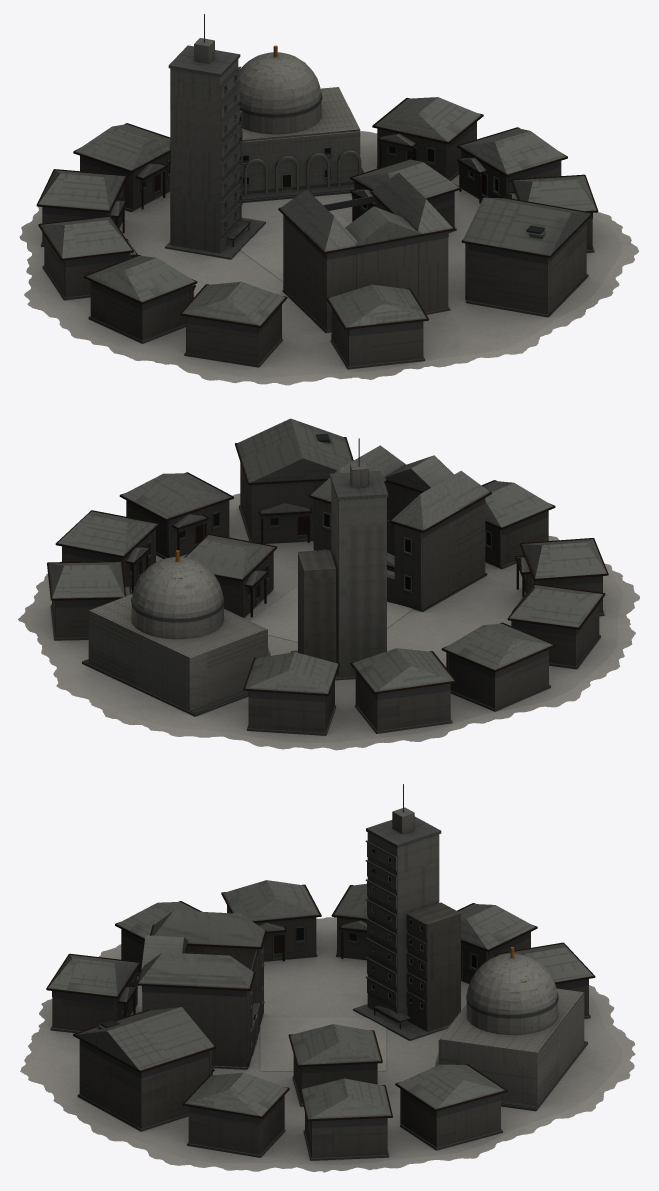
Rendered from modern-town-medium-b-westafrica.glb.
3 renders of one model, top to bottom at view 1: azimuth 30°, elevation 25°; view 2: azimuth 150°, elevation 25°; view 3: azimuth 270°, elevation 25°, orthographic.
Visible parts, largest first — view 1: LOD0; view 2: LOD0; view 3: LOD0.
Boxes of the visible parts, bbox=[...] form: LOD0: bbox=[19, 14, 638, 385]; LOD0: bbox=[18, 418, 639, 750]; LOD0: bbox=[20, 784, 635, 1172].
Size of what is drawn, in the model's own units: 5.92 by 2.4 by 6.02.
3 materials, 3 textured.
